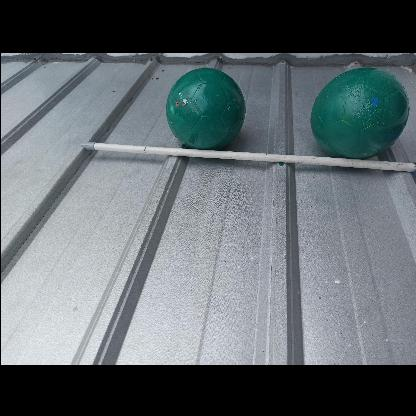green_ball: (308, 63, 408, 163), (162, 68, 244, 152)
